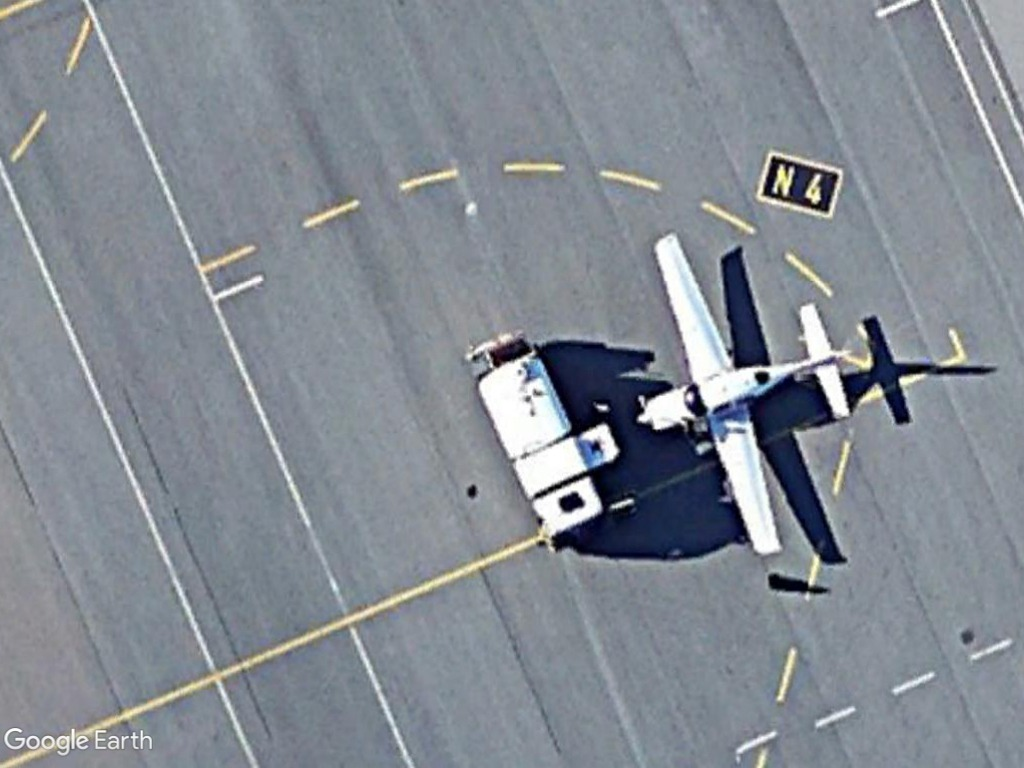trainer: (639, 230, 865, 561)
